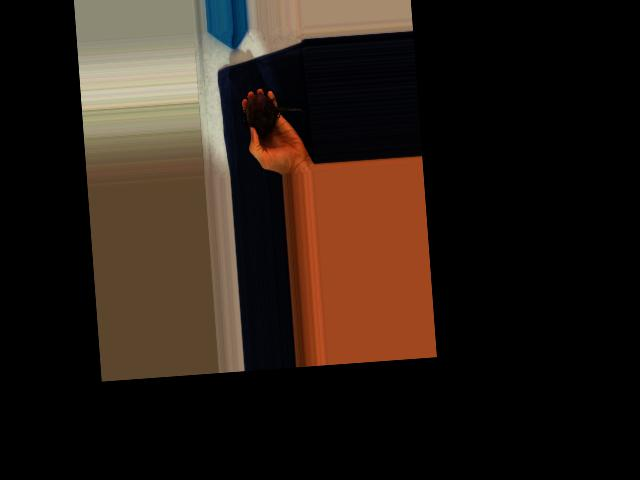beet: (239, 90, 306, 135)
